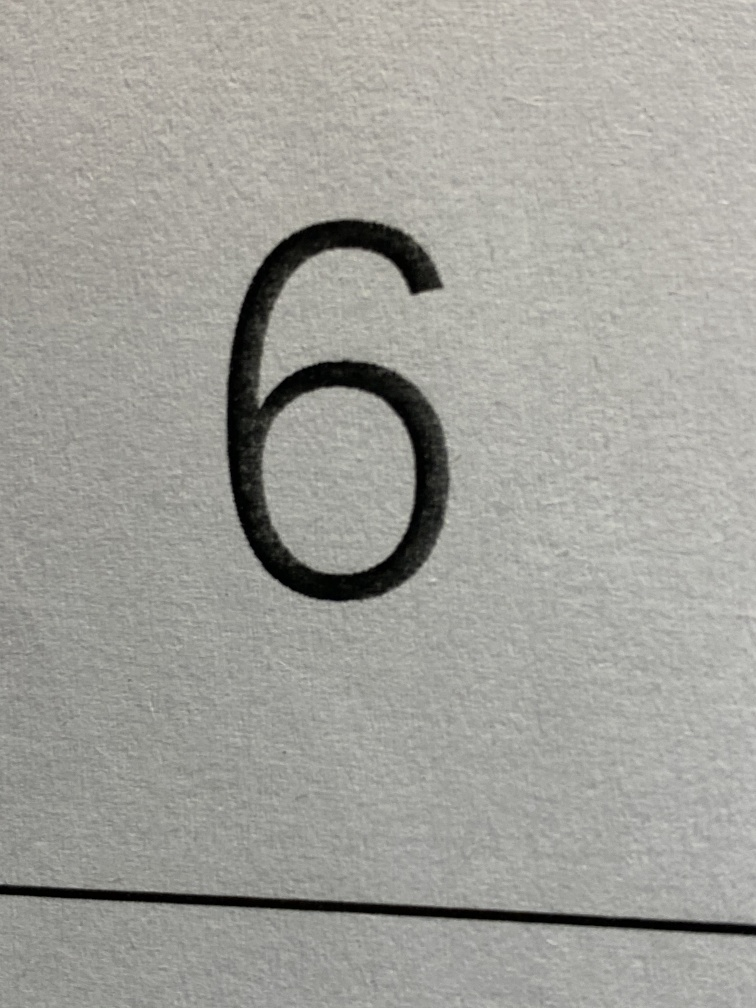six: (148, 151, 533, 659)
